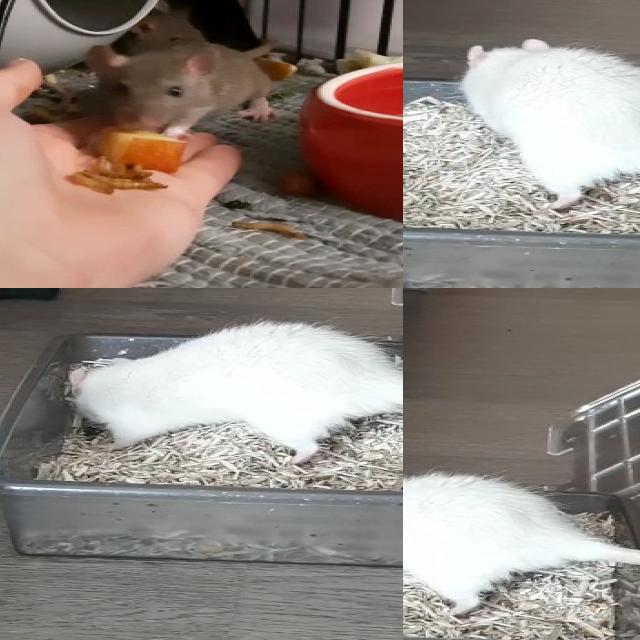rat: (73, 321, 399, 464), (462, 36, 640, 202), (403, 468, 584, 616), (84, 41, 276, 140)
